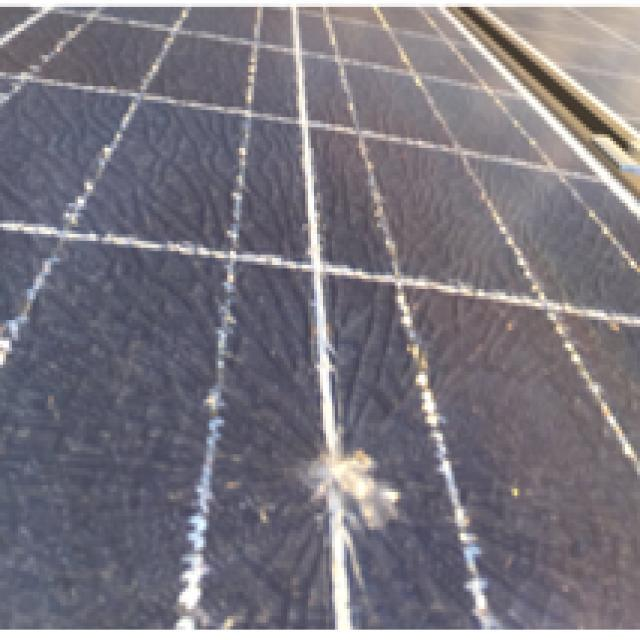faulty: (115, 271, 548, 632)
